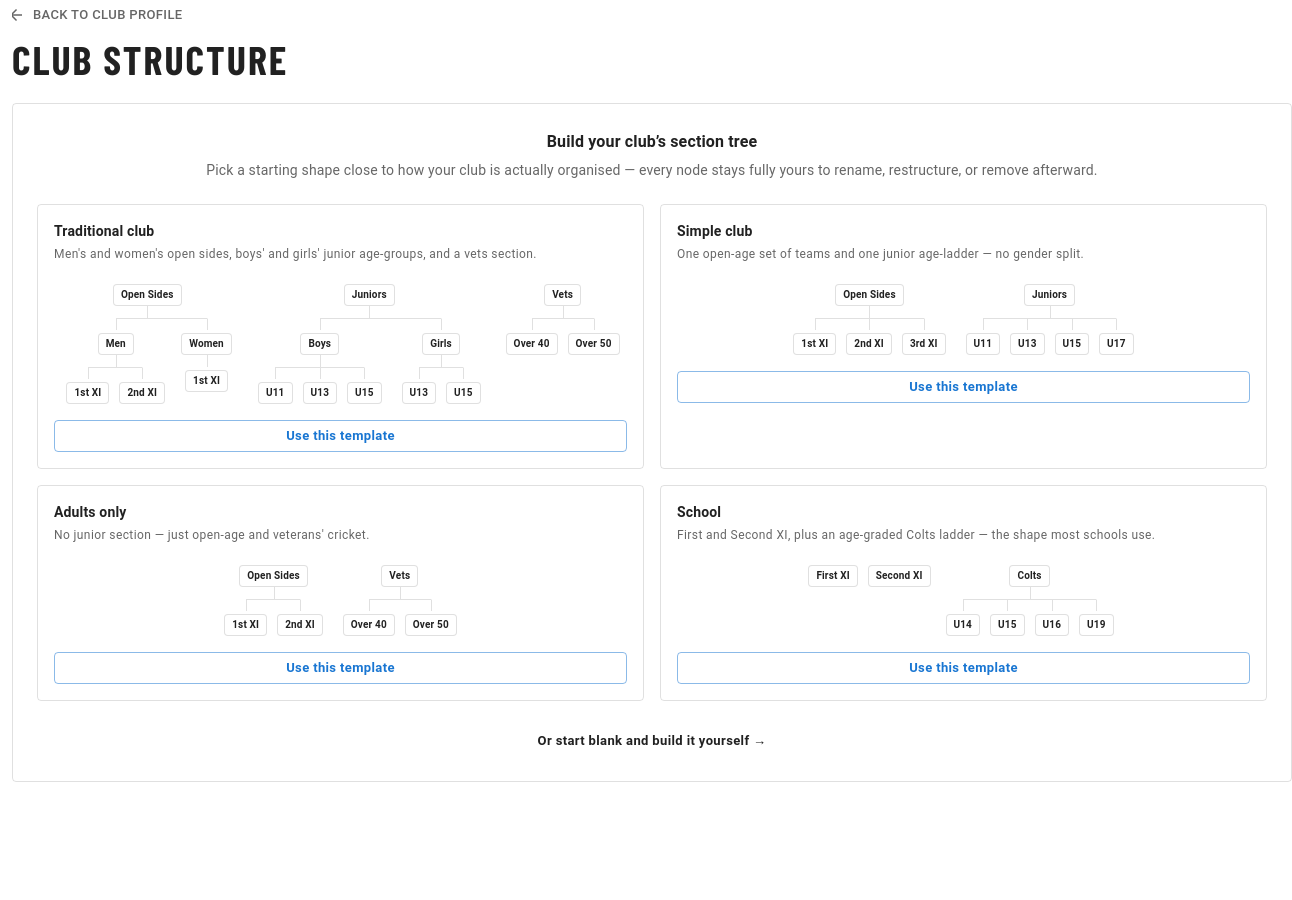
ClubStructure › "Start blank" leaves the tree empty and renders the tree editor instead of the template choice
Click the button "Or start blank and build it yourself →": [652, 741] box [526,725,778,757]
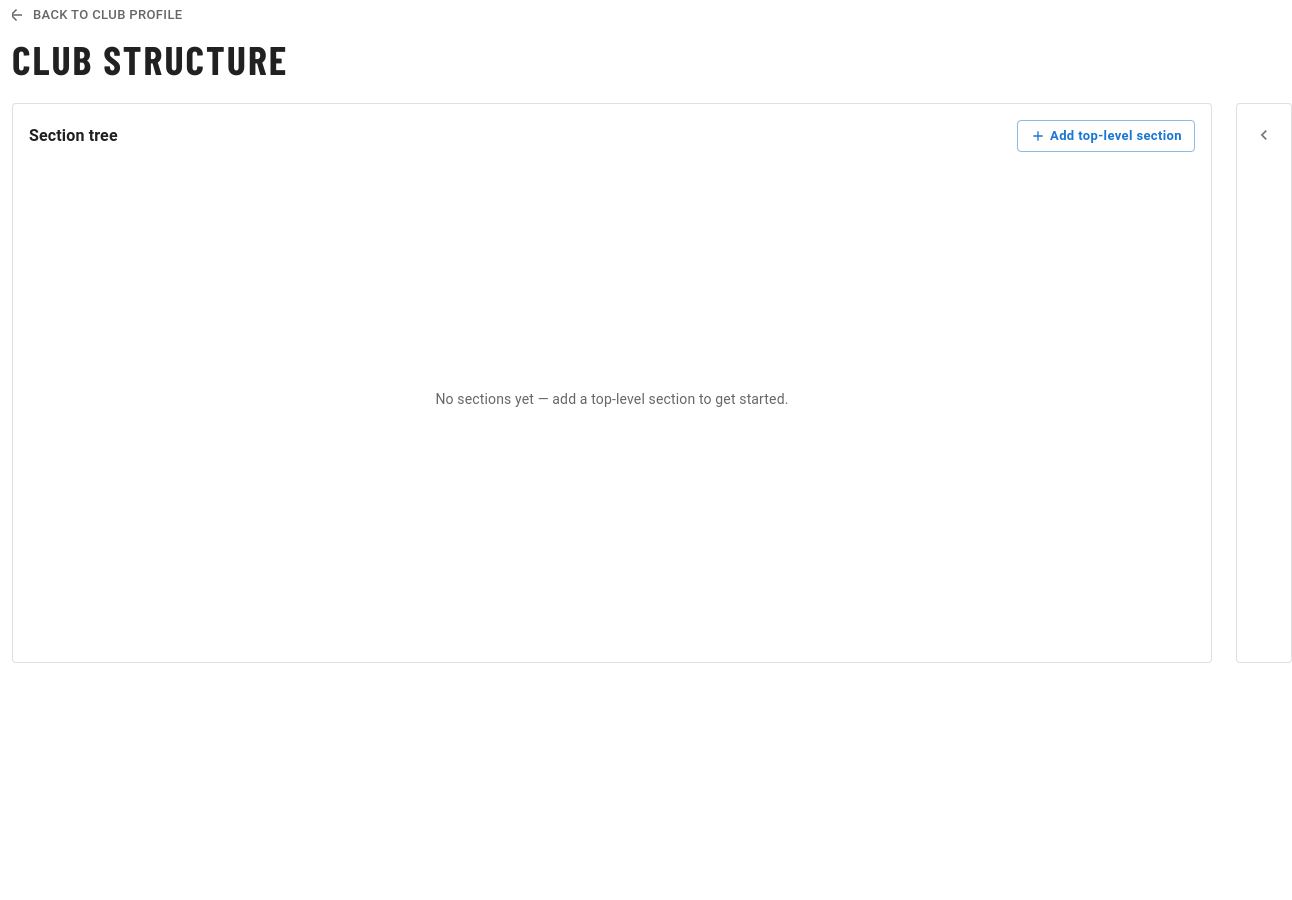
expect the heading "Build your club’s section tree" is gone: met
expect the text "No sections yet — add a top-level section to get started." is shown: met, box [435,389,788,409]
